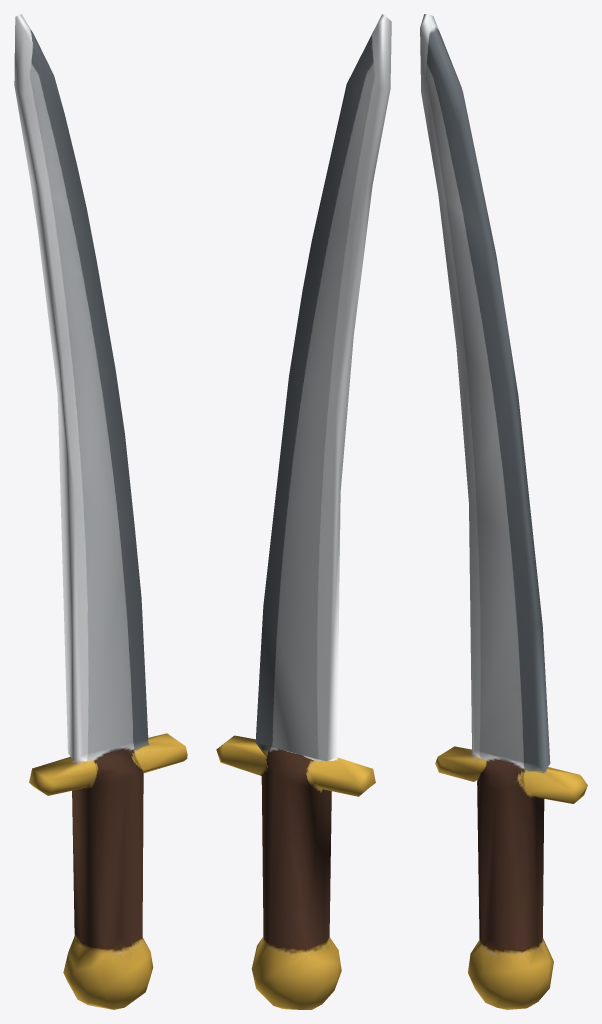
File: swashbuckler-sabre.glb
The picture shows the model from 3 angles, left to right: view 1: azimuth 30°, elevation 25°; view 2: azimuth 150°, elevation 25°; view 3: azimuth 330°, elevation 25°; orthographic projection. The views are drawn at different scales.
Visible parts, largest first — view 1: sabre; view 2: sabre; view 3: sabre.
Boxes of the visible parts, bbox=[...] form: sabre: bbox=[14, 14, 187, 1009]; sabre: bbox=[216, 14, 391, 1009]; sabre: bbox=[420, 14, 587, 1009].
Bounding box in the file's own units: 0.0777 × 0.4532 × 0.0366.
Materials: 1 (1 with a texture image).
